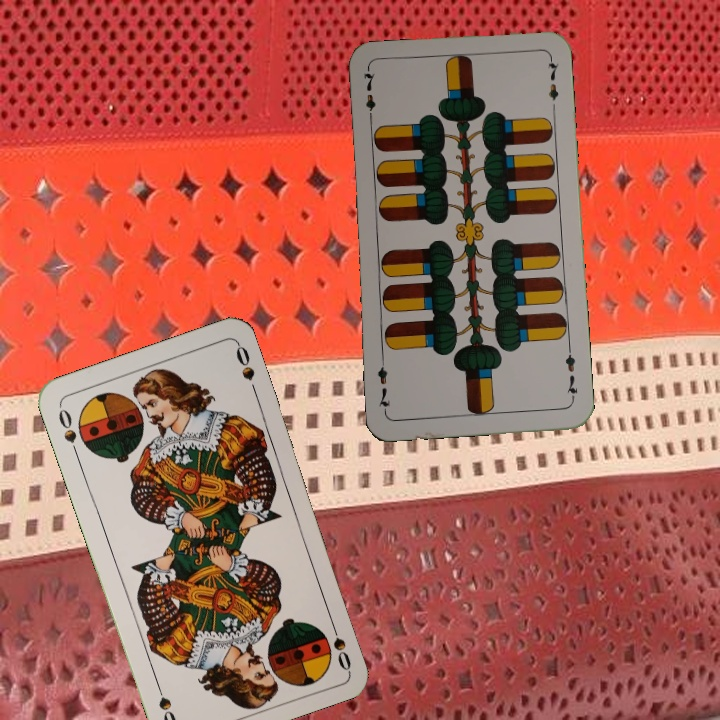E7: (561, 344, 581, 403), (359, 66, 378, 126)
SO: (325, 615, 354, 673), (54, 402, 82, 460)
